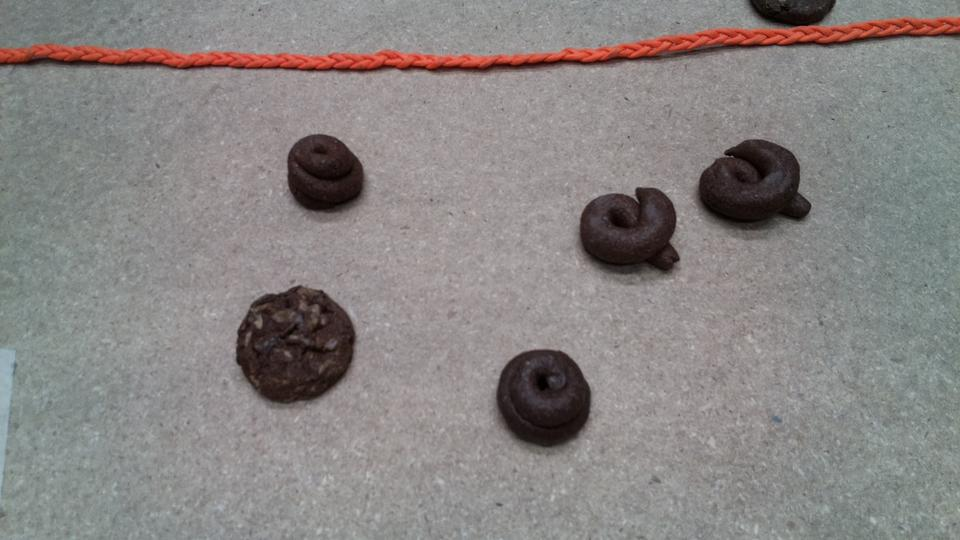poop: (233, 278, 365, 404), (693, 135, 823, 235), (579, 178, 688, 281), (490, 345, 596, 450), (282, 134, 371, 216)
rope: (1, 37, 670, 90), (647, 17, 960, 71)
